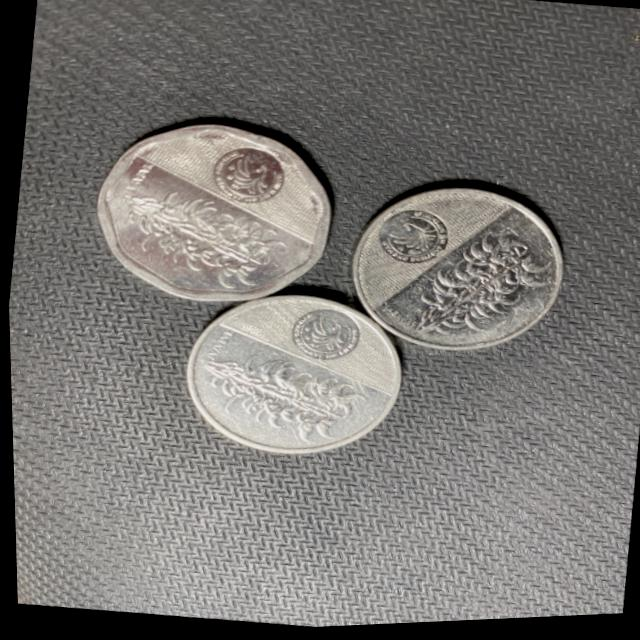5_New_Back: (112, 184, 293, 296), (201, 341, 363, 462), (415, 229, 549, 348)
